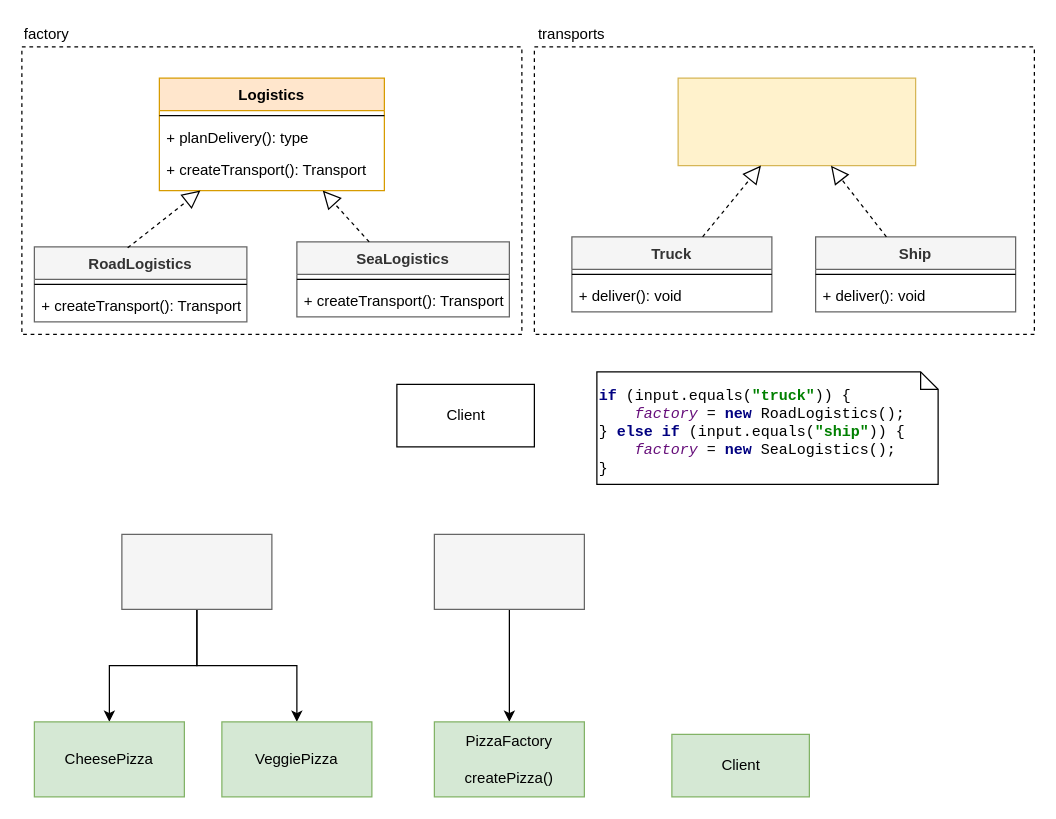
This 1056x819 diagram has some shape labels left out. The shapes that lost their labels are listed below. From the top down, each one's centre as x and y in pixels, then its label:
At [796,121]: "<<Interface>> Transport + deliver(): void".
At [196,571]: "Pizza addIngredients()".
At [508,571]: "BasePizzaFactory".
